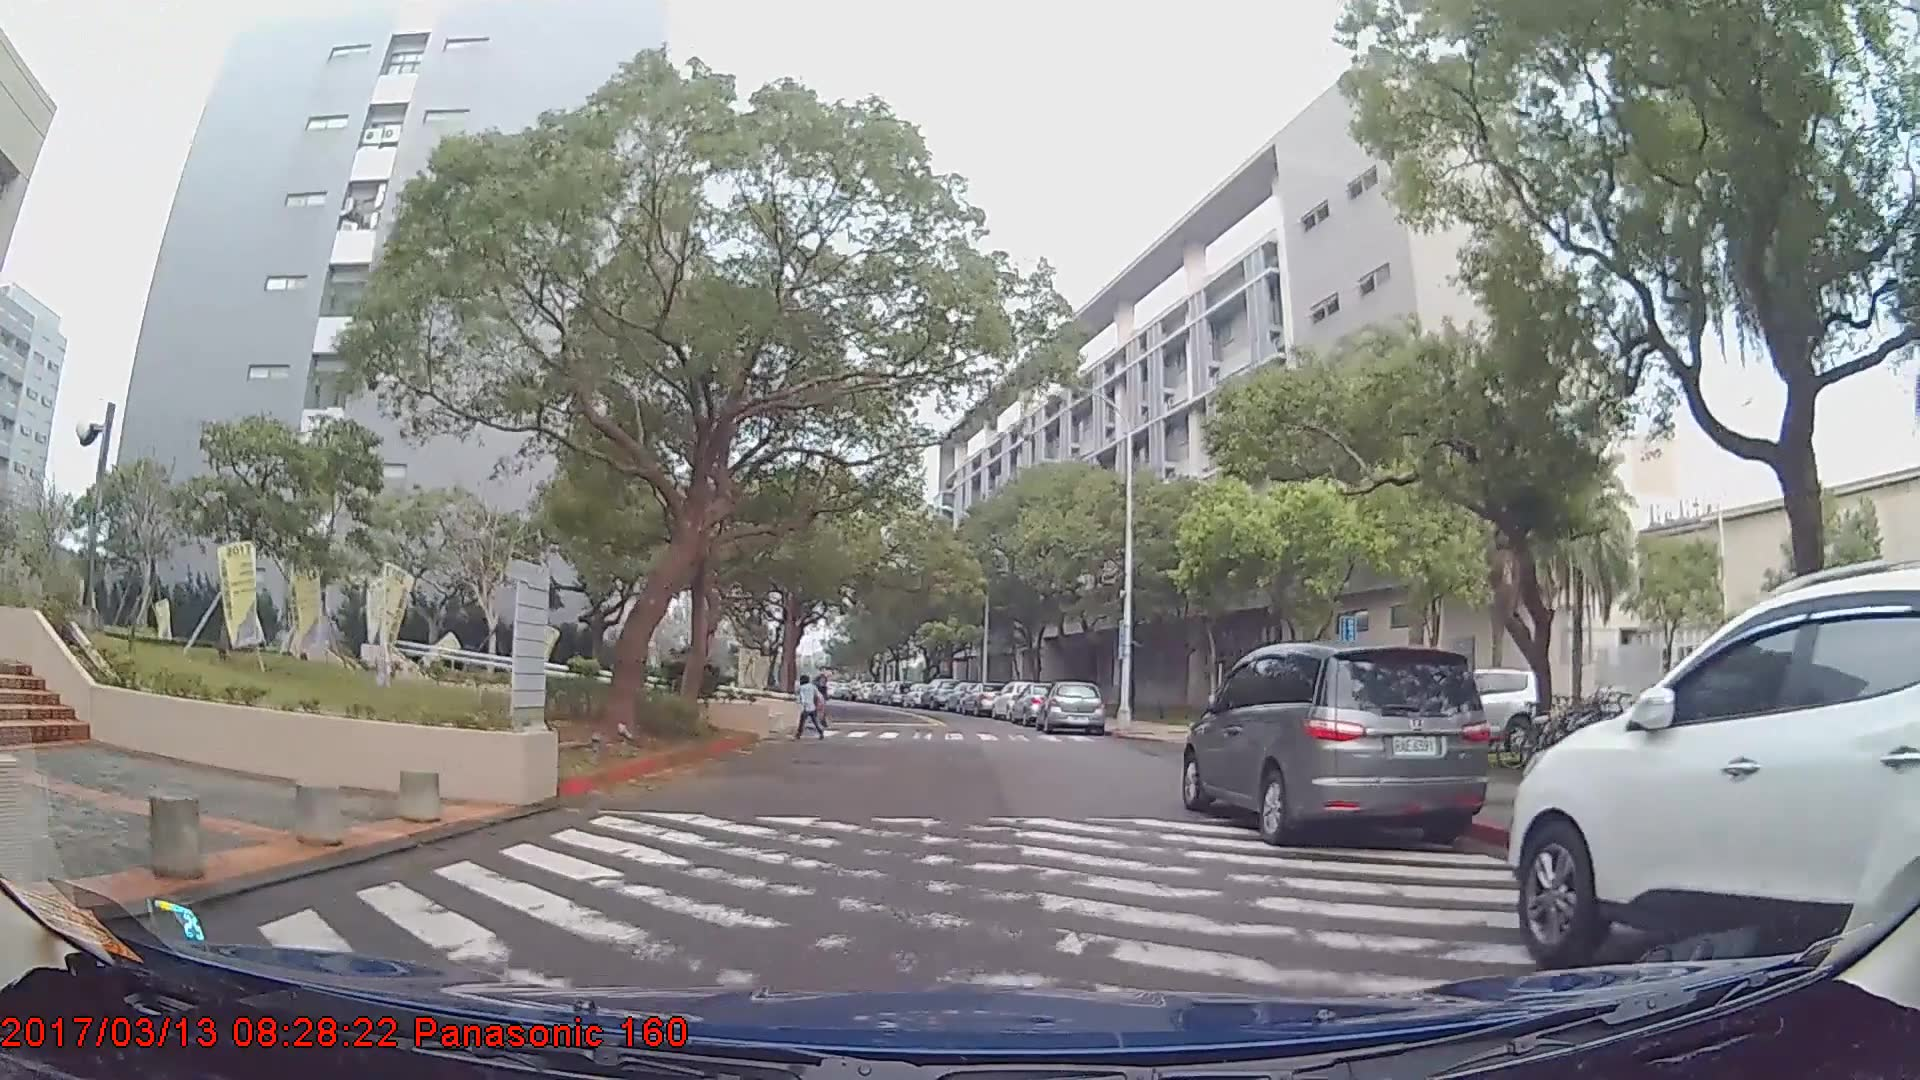pedestrian: (798, 676, 828, 744), (812, 663, 838, 731)
vehicle: (1508, 566, 1919, 976), (1183, 641, 1493, 849), (1042, 679, 1106, 734), (921, 677, 961, 710), (964, 683, 1005, 715)
